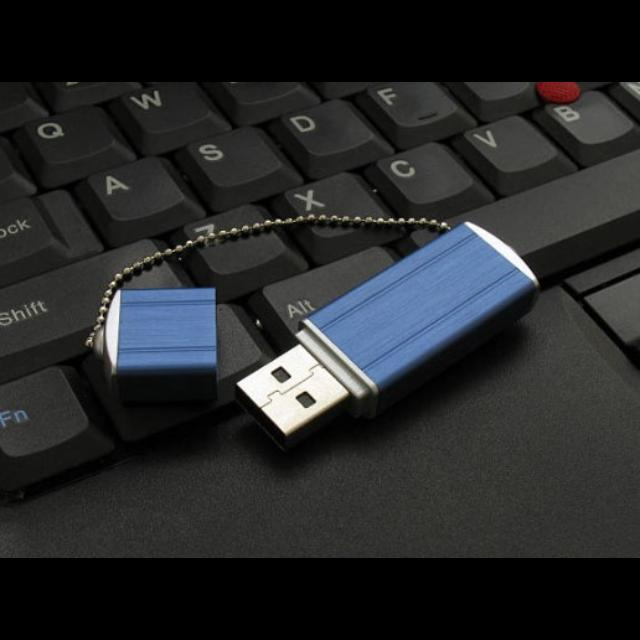USB-Flash-Drive: (242, 222, 541, 450)
